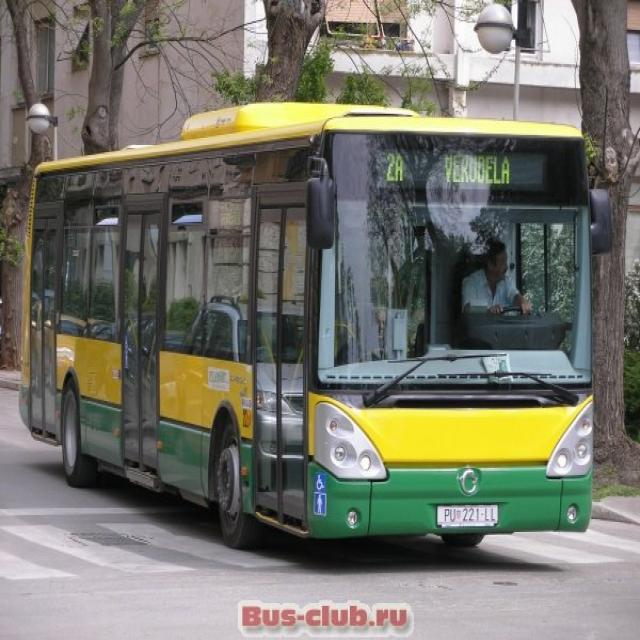bus: (20, 99, 598, 559)
